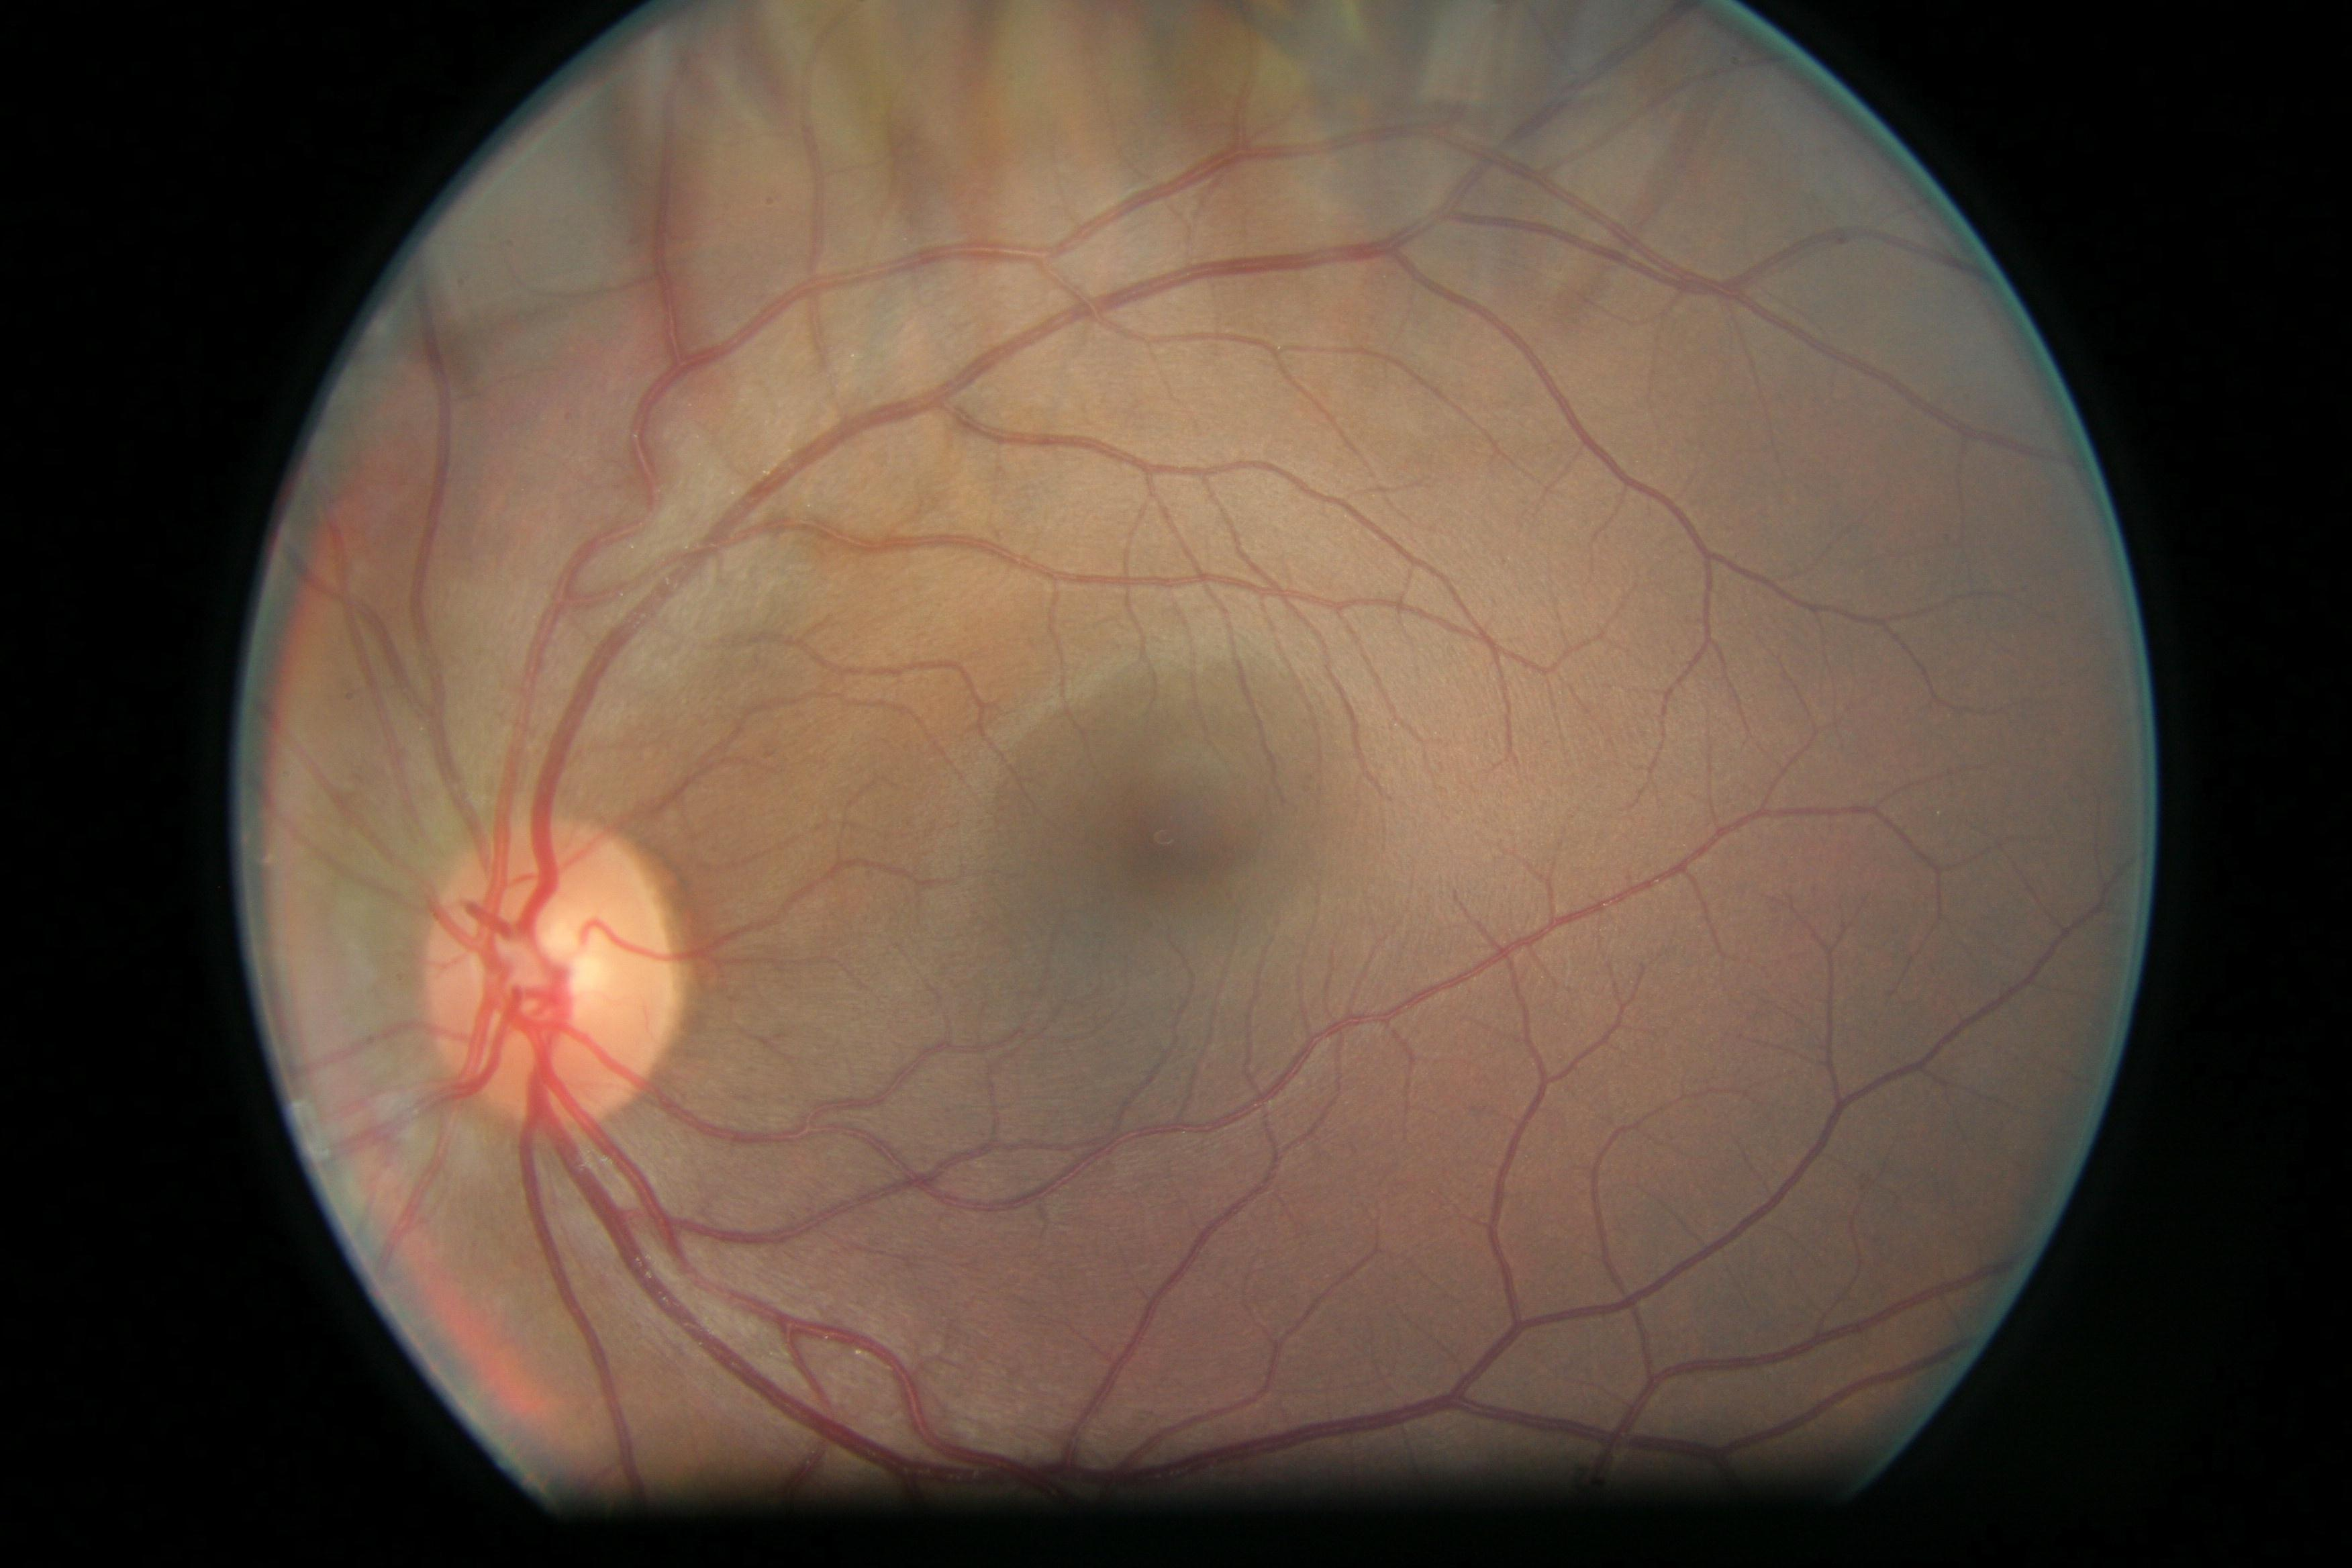Optic-nerve: (423, 816, 698, 1123)
macula: (975, 635, 1316, 987)
